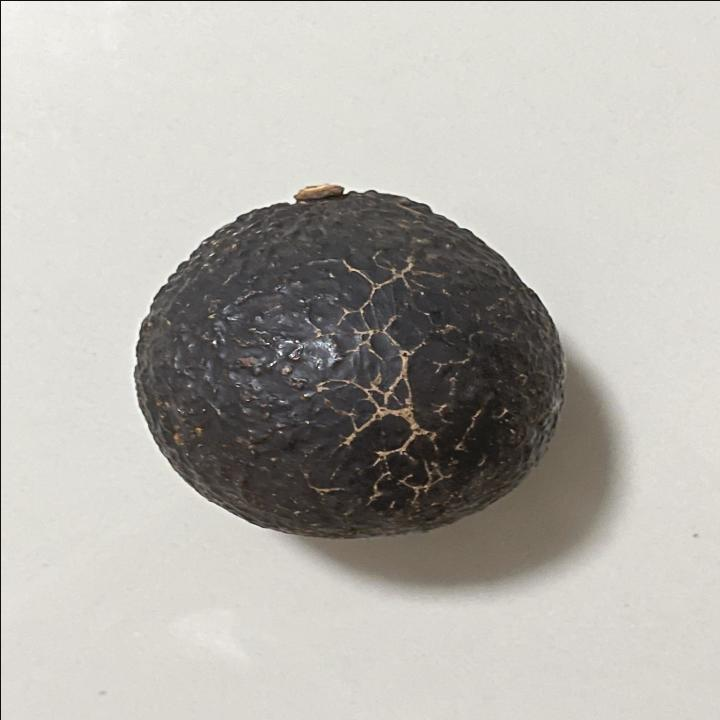Level3: (118, 175, 577, 546)
